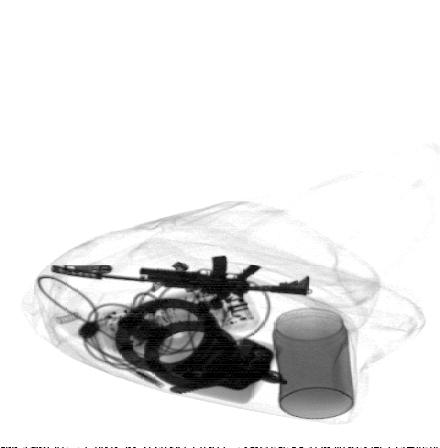Gun: (45, 255, 312, 301)
HandCuffs: (113, 297, 290, 394)
